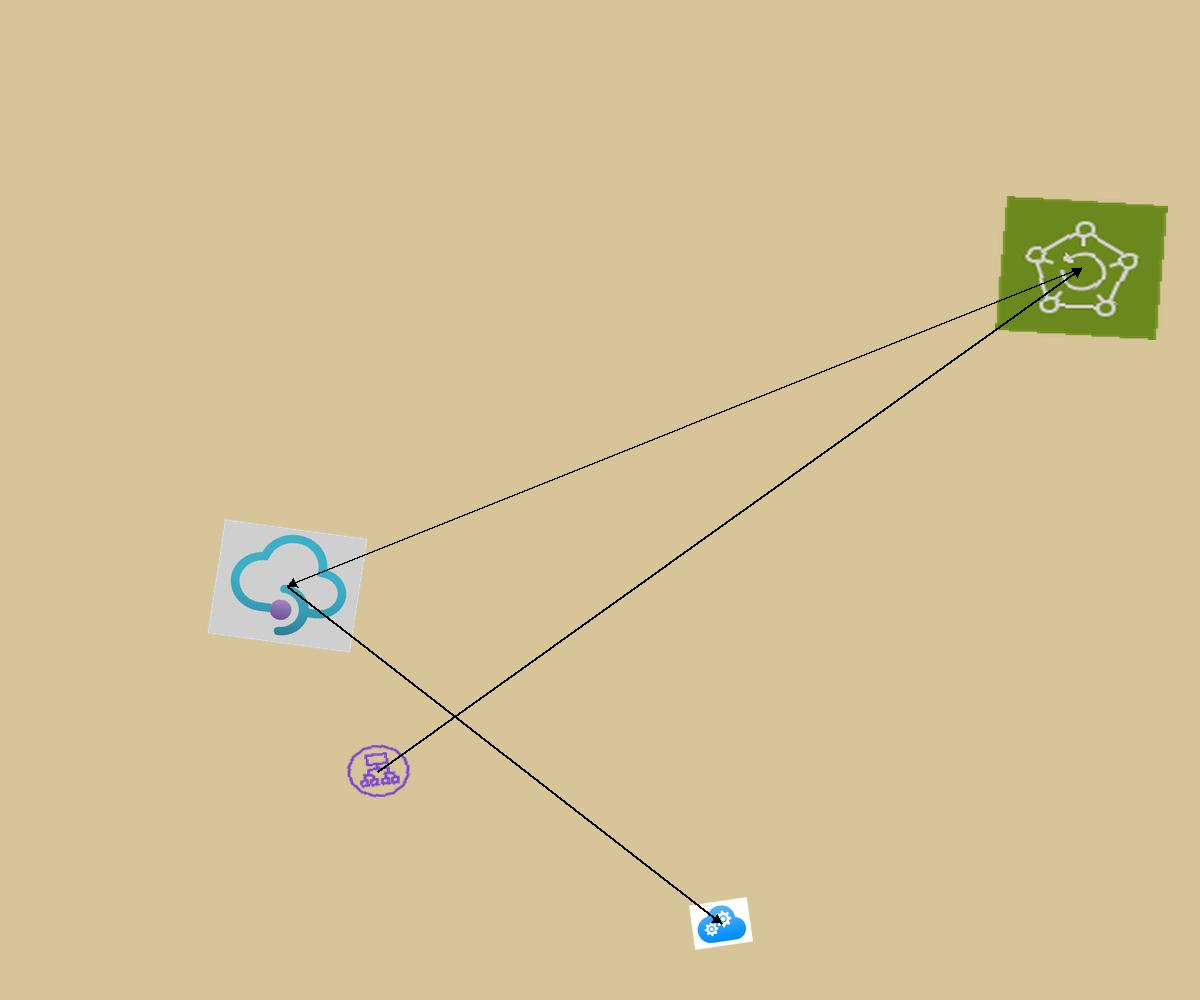AWS-Backup: (995, 196, 1168, 340)
AWS-Res_Elastic-Load-Balancing_Application-Load-Balancer: (339, 738, 418, 804)
Azure_api_gateway: (207, 519, 368, 653)
Azure_cloud_services: (689, 897, 753, 950)
